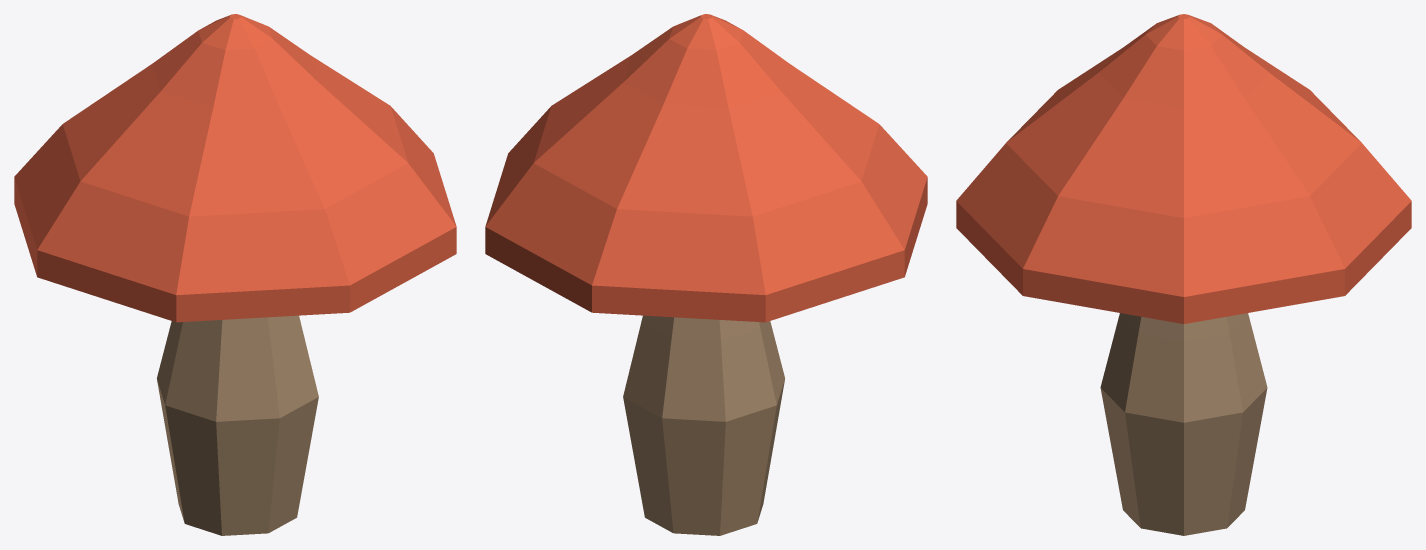
File: MUSHROOM_V1.fbx
The picture shows the model from 3 angles, left to right: view 1: azimuth 30°, elevation 25°; view 2: azimuth 150°, elevation 25°; view 3: azimuth 270°, elevation 25°; orthographic projection.
Parts seen in each view (by area): view 1: Circle.001; view 2: Circle.001; view 3: Circle.001.
Part boxes in pixels (<box>): Circle.001: <box>14,14,456,535</box>; Circle.001: <box>485,14,927,535</box>; Circle.001: <box>956,14,1411,535</box>.
Bounding box in the file's own units: 70.27 × 83.82 × 70.27.
